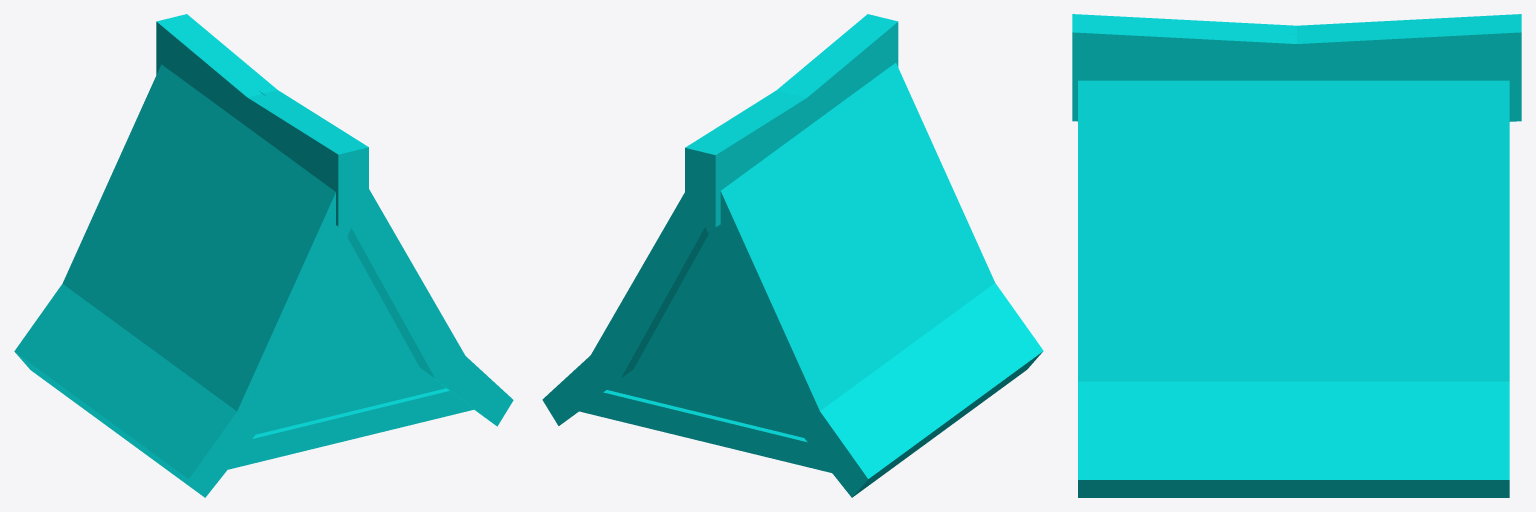
The model's file is SM_Bld_Roof_Thatch_Preset_Tall_01_Collision.fbx.
3 views of the same model, side by side, from view 1: azimuth 30°, elevation 25°; view 2: azimuth 150°, elevation 25°; view 3: azimuth 270°, elevation 25° (orthographic). The views are drawn at different scales.
Visible parts, largest first — view 1: SM_Bld_Roof_Thatch_Preset_Tall_01_Collision; view 2: SM_Bld_Roof_Thatch_Preset_Tall_01_Collision; view 3: SM_Bld_Roof_Thatch_Preset_Tall_01_Collision.
Boxes of the visible parts, <box> form: SM_Bld_Roof_Thatch_Preset_Tall_01_Collision: <box>14,14,513,497</box>; SM_Bld_Roof_Thatch_Preset_Tall_01_Collision: <box>542,14,1043,497</box>; SM_Bld_Roof_Thatch_Preset_Tall_01_Collision: <box>1072,14,1521,497</box>.
Bounding box in the file's own units: 670 × 617 × 651.
